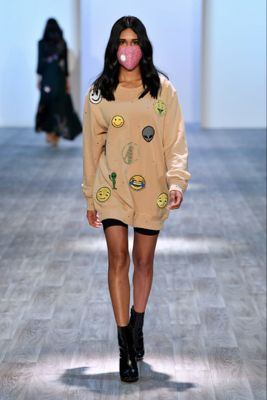with-mask: (104, 23, 155, 77)
